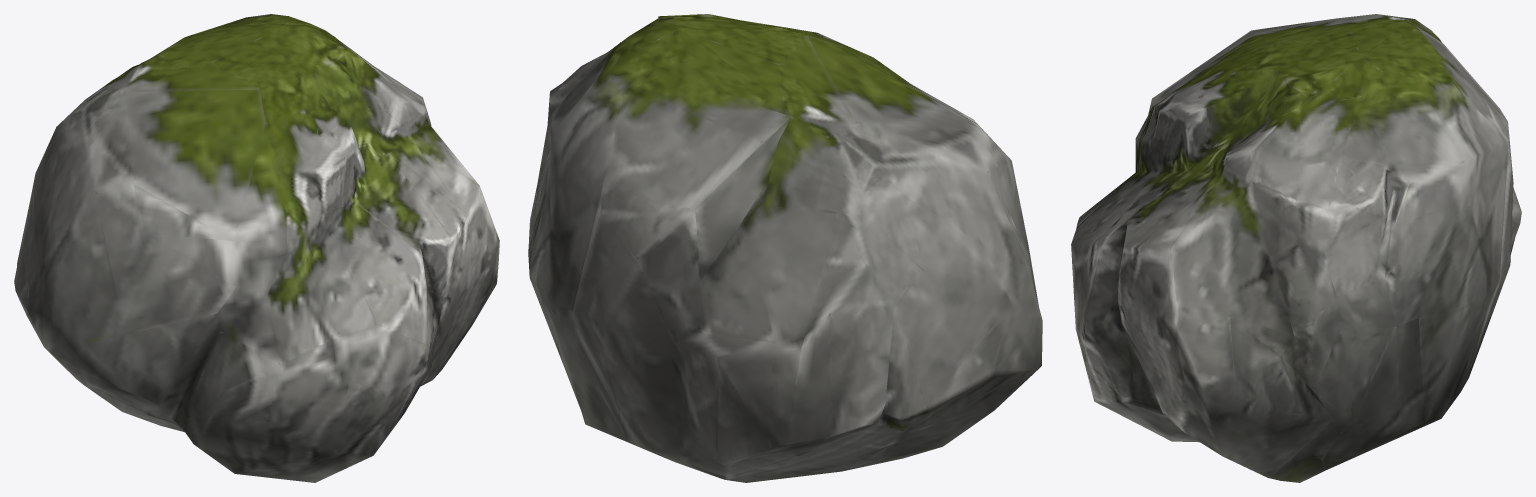
The model's file is rock.glb.
3 views of the same model, side by side, from view 1: azimuth 30°, elevation 25°; view 2: azimuth 150°, elevation 25°; view 3: azimuth 270°, elevation 25° (orthographic). The views are drawn at different scales.
Bounding box in the file's own units: 1.46 × 1.3 × 1.28.
1 material, 1 textured.
